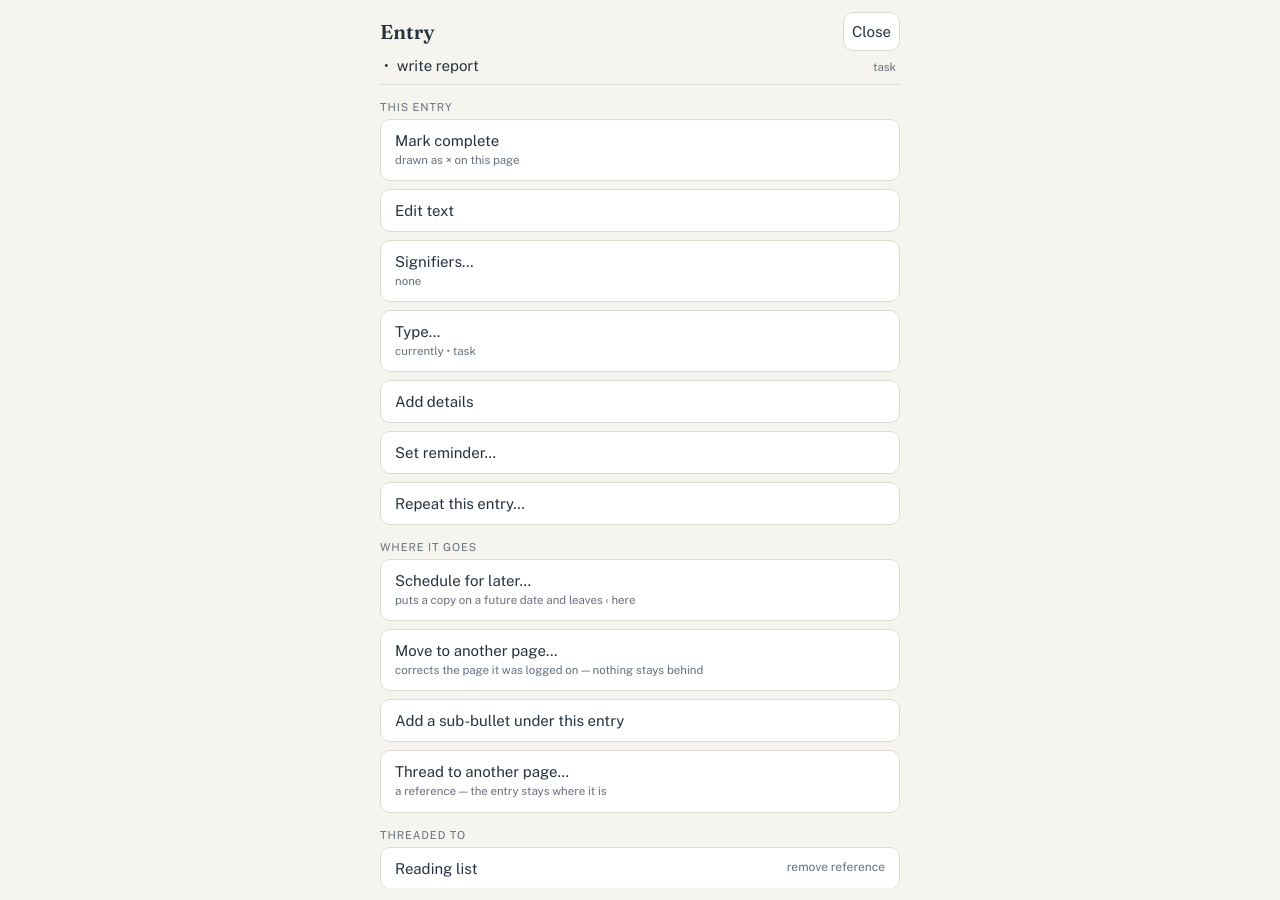
Test case: thread picker sub-view › a page already referenced is shown as such, not as a second way to remove it
Click the button "Thread to another page…".
click(482, 772)  # box top-left (380, 750), bottom-right (900, 813)
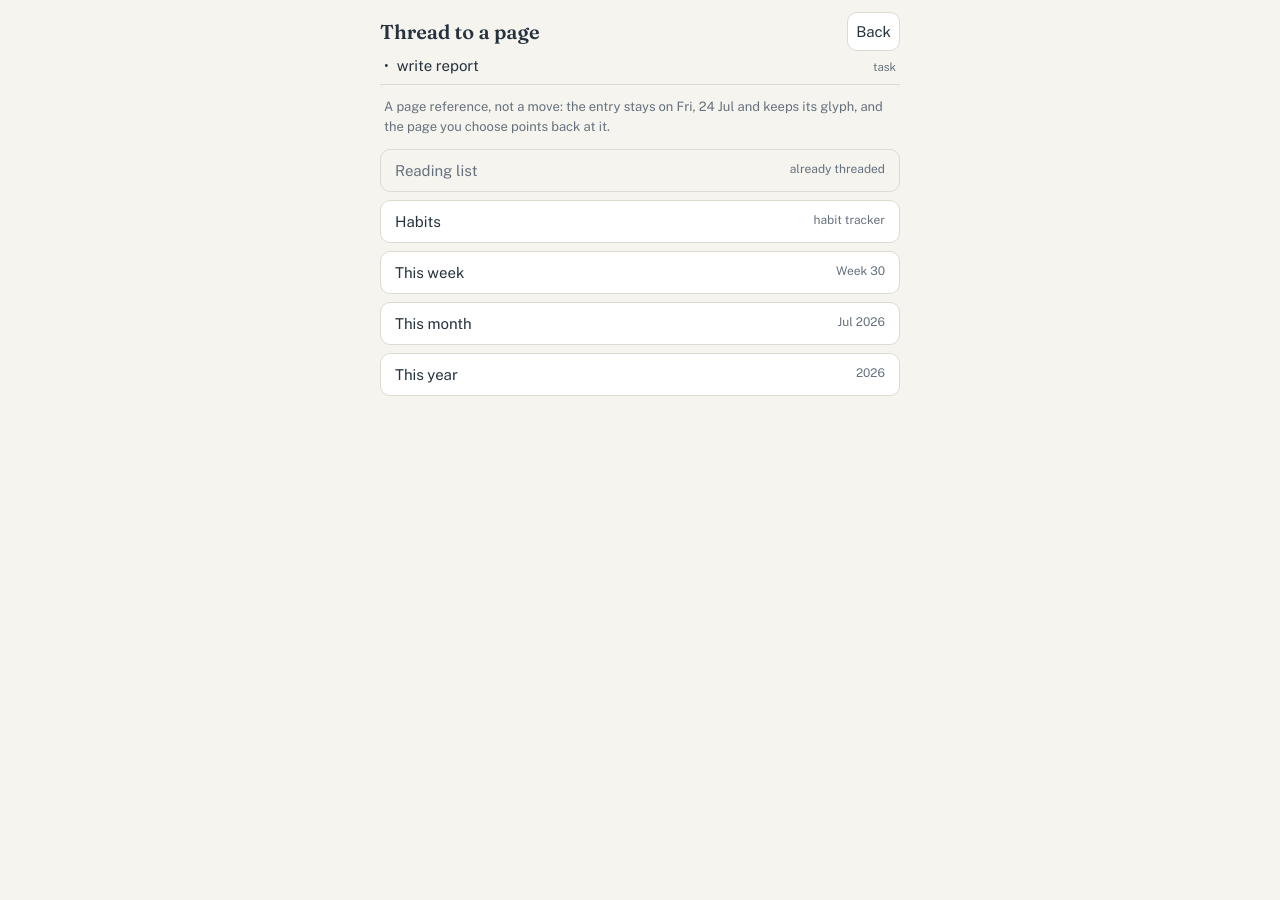
Expected: the text "already threaded" is shown, top-left (790, 162), bottom-right (885, 179)
